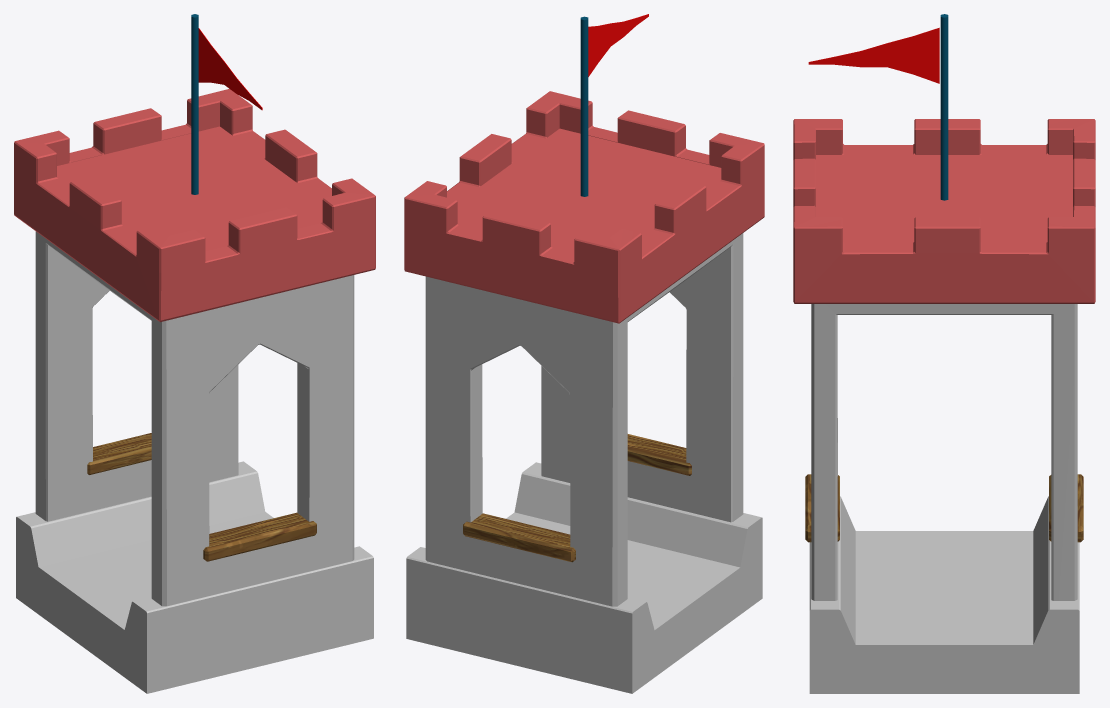
Rendered from med_gate_ew_hd.fbx.
3 views of the same model, side by side, from view 1: azimuth 30°, elevation 25°; view 2: azimuth 150°, elevation 25°; view 3: azimuth 270°, elevation 25° (orthographic). The views are drawn at different scales.
Parts seen in each view (by area): view 1: med_gate_middle, med_gate_top, med_gate_ew_hd, med_gate_flag; view 2: med_gate_middle, med_gate_top, med_gate_ew_hd, med_gate_flag; view 3: med_gate_top, med_gate_ew_hd, med_gate_middle, med_gate_flag.
Part boxes in pixels (left/top/right/bottom): med_gate_middle: left=35, top=231, right=354, bottom=606; med_gate_top: left=14, top=14, right=375, bottom=322; med_gate_ew_hd: left=16, top=461, right=373, bottom=693; med_gate_flag: left=198, top=28, right=262, bottom=110; med_gate_middle: left=425, top=233, right=743, bottom=606; med_gate_top: left=404, top=16, right=764, bottom=323; med_gate_ew_hd: left=406, top=462, right=762, bottom=693; med_gate_flag: left=588, top=14, right=648, bottom=76; med_gate_top: left=793, top=14, right=1095, bottom=303; med_gate_ew_hd: left=809, top=496, right=1079, bottom=693; med_gate_middle: left=805, top=304, right=1083, bottom=600; med_gate_flag: left=808, top=27, right=939, bottom=83.
Bounding box in the file's own units: 100 × 254 × 112.
